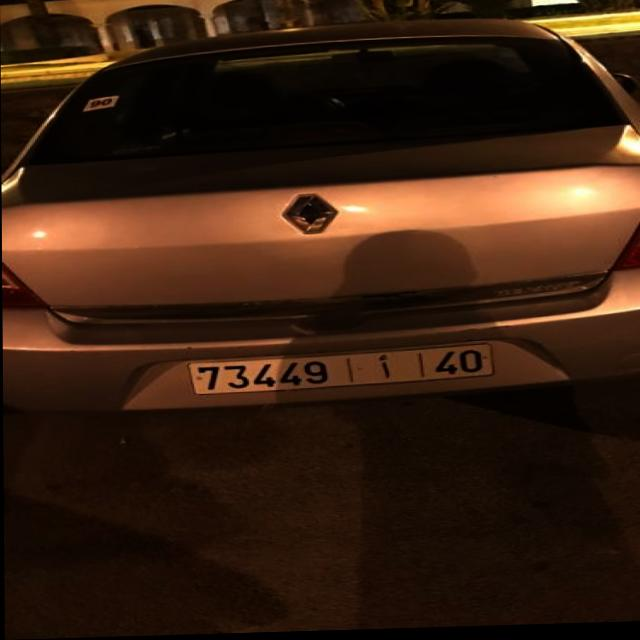License-Plate: (187, 348, 494, 395)
